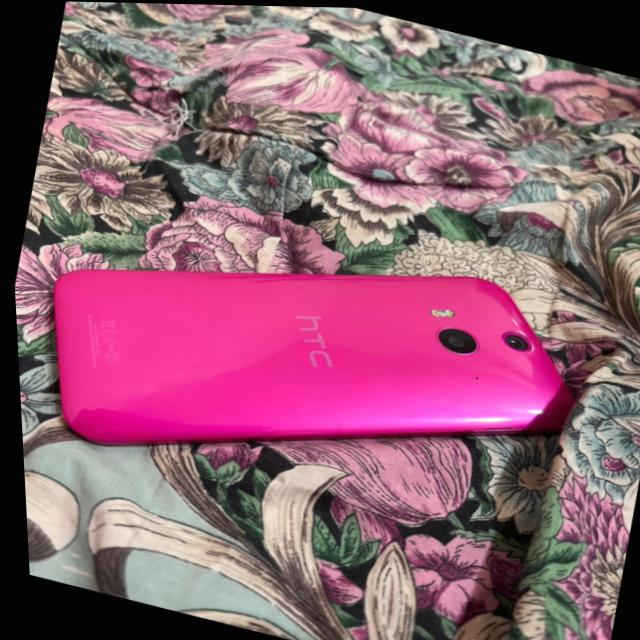Smartphone: (49, 269, 569, 444)
